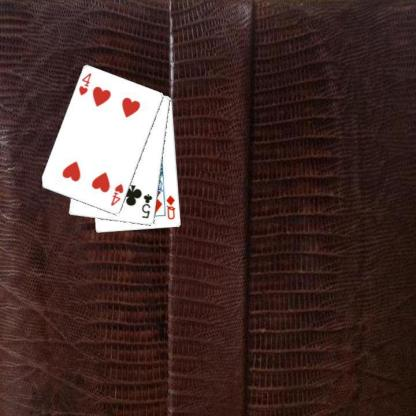4H: (108, 182, 125, 208), (76, 71, 92, 97)
5C: (139, 192, 154, 220)
QD: (163, 193, 177, 221)
